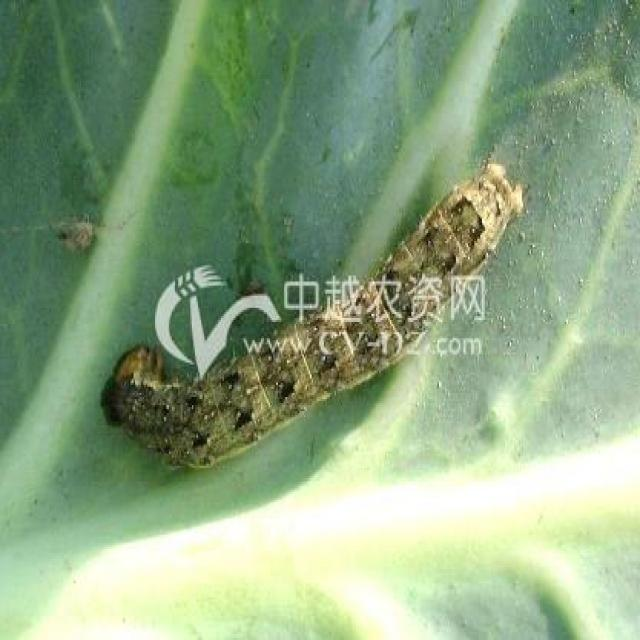armyworm: (92, 148, 550, 492)
